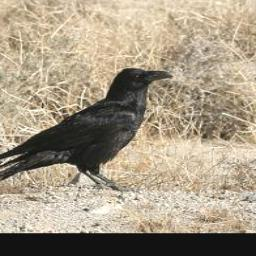Crow: (0, 66, 174, 191)
